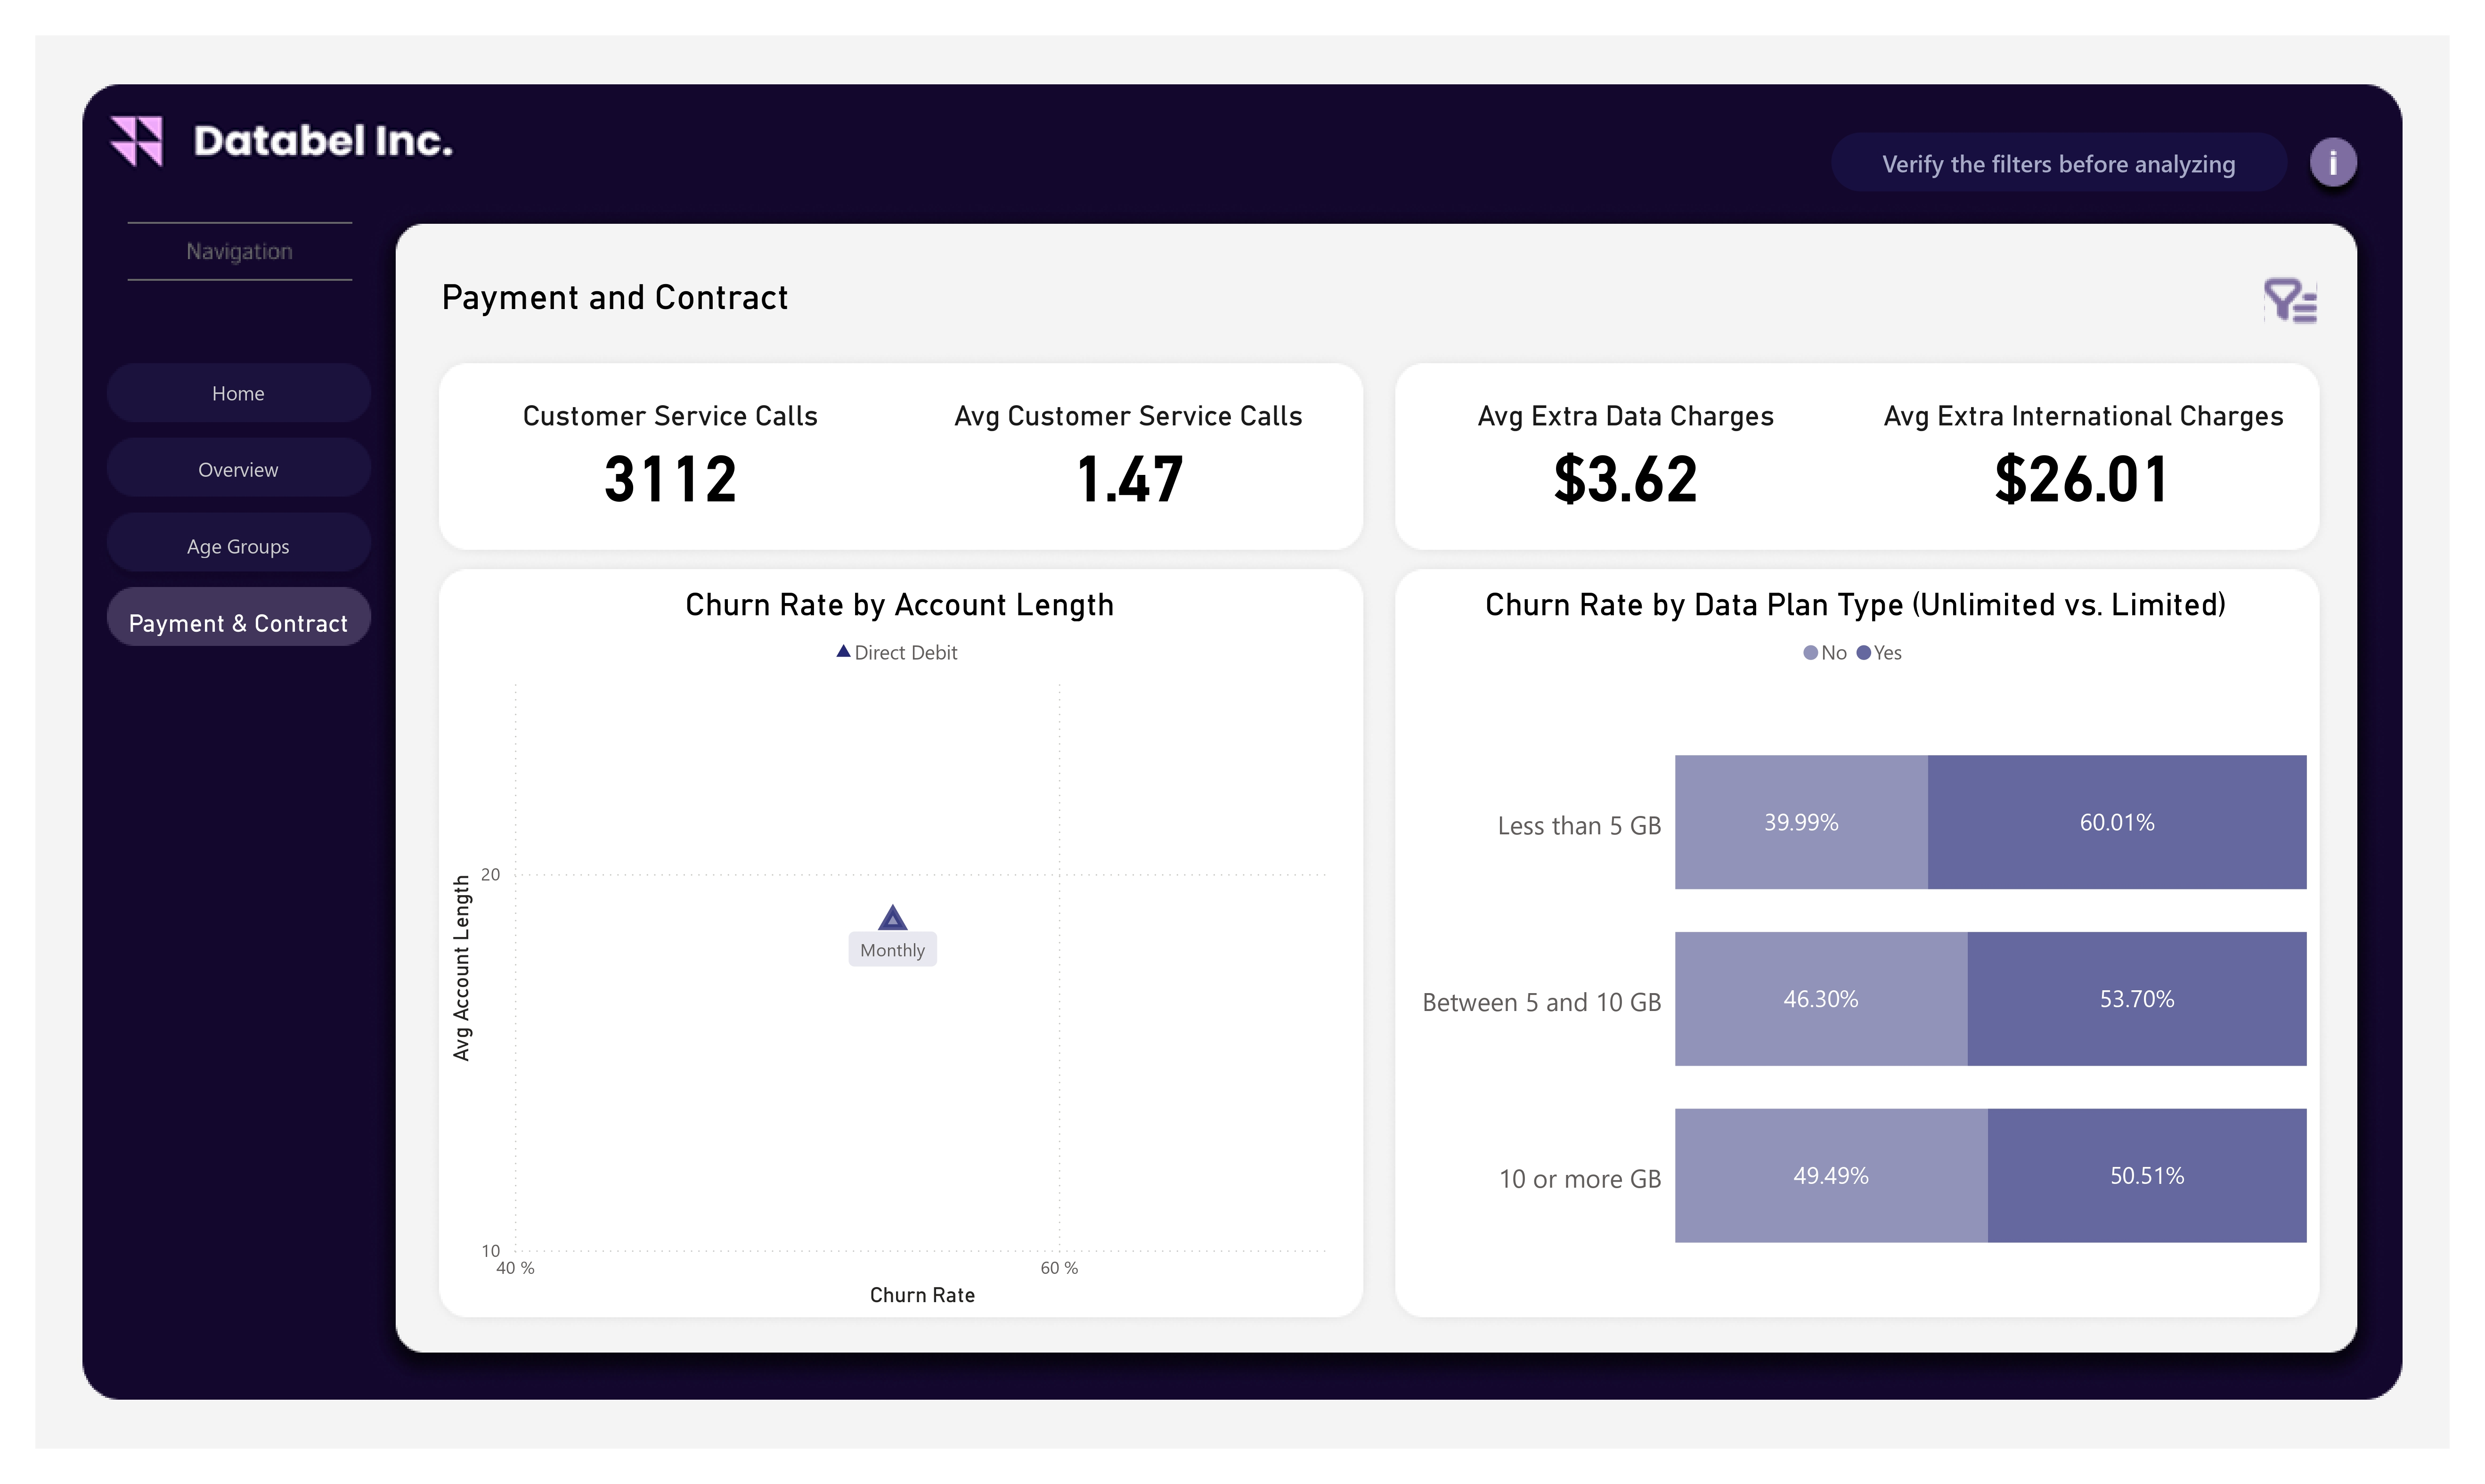

The dashboard page shown, as its layout file describes it:
{"tool":"powerbi","page":{"name":"Payment & Contract","canvas":[1640,960],"ordinal":3},"visuals":[{"type":"scatterChart","title":"Churn Rate by Account Length","fields":{"X":["Databel - Data.Churn Rate"],"Y":["Databel - Data.Average Account Length"],"Category":["Databel - Data.Contract Category"],"Series":["Databel - Data.Payment Method"]},"box":[271.4,363.7,632.3,509.2],"z":0},{"type":"cardVisual","fields":{"Data":["Sum(Databel - Data.Customer Service Calls)","Databel - Data.Avg Customer Service Calls"]},"box":[271.4,222.4,632.2,127.3],"z":1000},{"type":"pageNavigator","box":[49,222.4,177.6,197.2],"z":2000},{"type":"cardVisual","fields":{"Data":["Databel - Data.Avg Extra Data Charges","Databel - Data.Avg Extra International Charges"]},"box":[920.4,222.4,632.2,127.3],"z":3000},{"type":"hundredPercentStackedBarChart","title":"Churn Rate by Data Plan Type (Unlimited vs. Limited)","fields":{"Category":["Databel - Data.Grouped Consumption"],"Y":["Databel - Data.Churn Rate"],"Series":["Databel - Data.Unlimited Data Plan"]},"box":[920.4,363.7,632.2,509.2],"z":4000},{"type":"textbox","box":[271.4,159.5,465.8,61.5],"z":5000},{"type":"actionButton","box":[1517.7,159.5,35,40.6],"z":6000},{"type":"actionButton","box":[1219.8,65.7,310.5,40.6],"z":8000}]}

Visuals, with their boxes on the page's 1640x960 design canvas (x1, y1, x2, y2). These are canvas units, not pixel positions in the 2485x1484 screenshot, which may show the page scaled, cropped or inside an application window:
"Churn Rate by Account Length" scatterChart: (271, 364, 904, 873)
cardVisual - Sum(Databel - Data.Customer Service Calls) x Databel - Data.Avg Customer Service Calls: (271, 222, 904, 350)
pageNavigator: (49, 222, 227, 420)
cardVisual - Databel - Data.Avg Extra Data Charges x Databel - Data.Avg Extra International Charges: (920, 222, 1553, 350)
"Churn Rate by Data Plan Type (Unlimited vs. Limited)" hundredPercentStackedBarChart: (920, 364, 1553, 873)
textbox: (271, 160, 737, 221)
actionButton: (1518, 160, 1553, 200)
actionButton: (1220, 66, 1530, 106)
